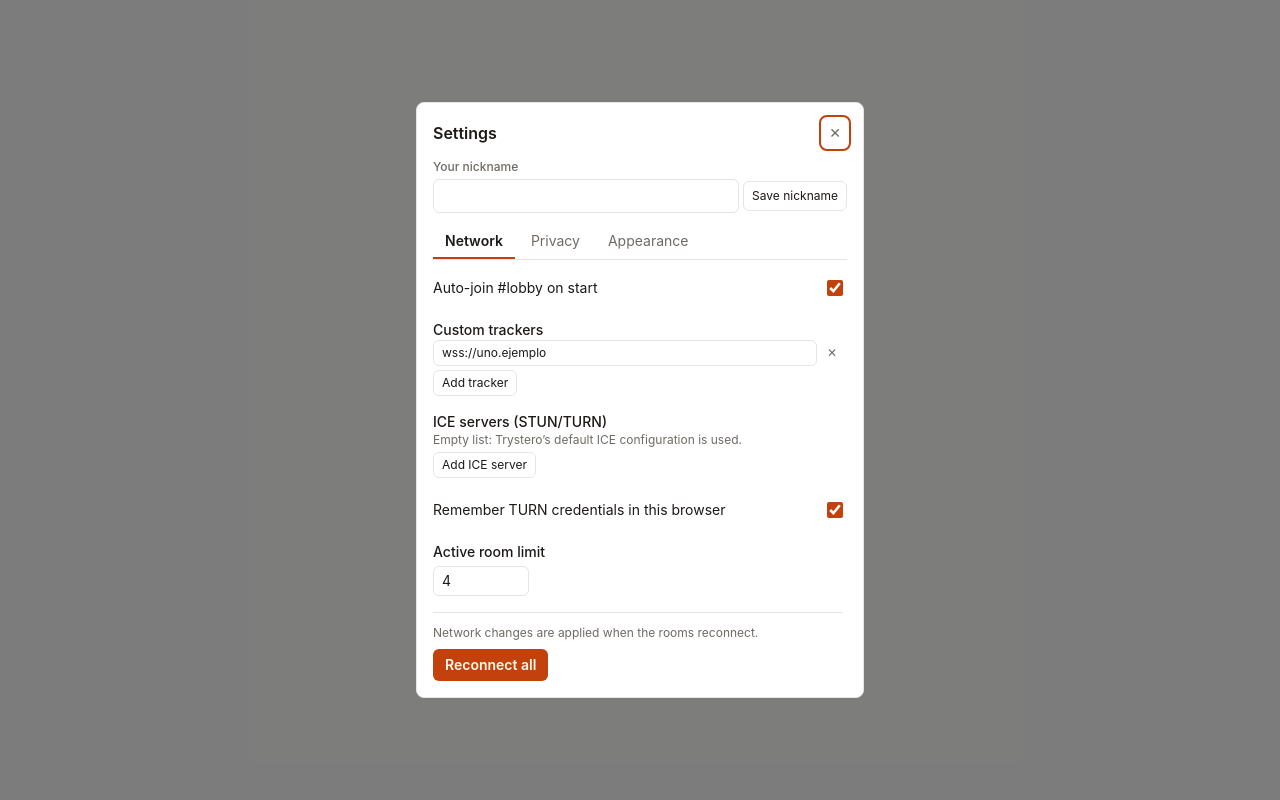
Test: Red tab (RF-07) › removes tracker rows and the list returns to defaults (empty)
The width and height of the screenshot is (1280, 800).
Click the button named "Remove tracker 1": (832, 353) [821, 341, 843, 365]
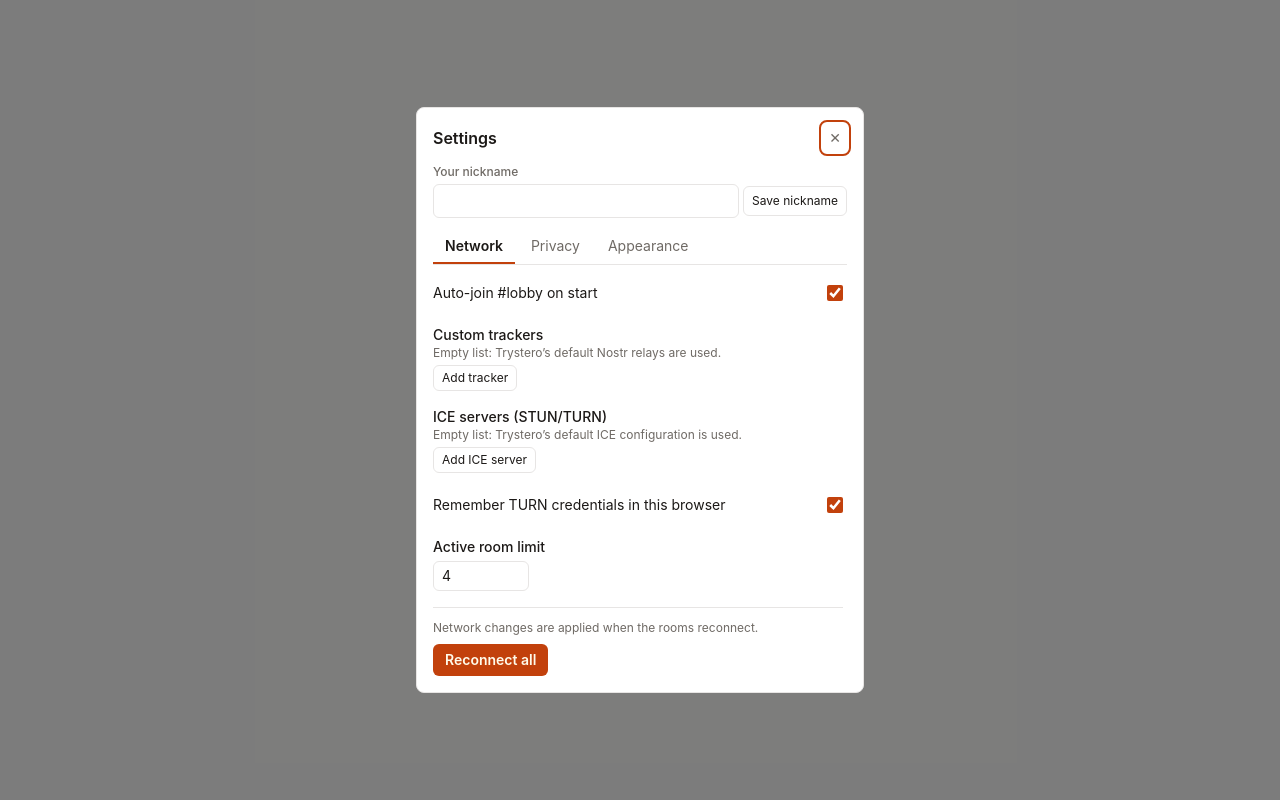
Expected: the text "Empty list: Trystero’s default Nostr relays are used." is shown, [433, 345, 721, 360]
